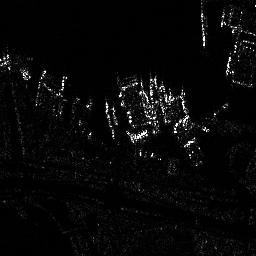ship: (197, 10, 209, 48)
